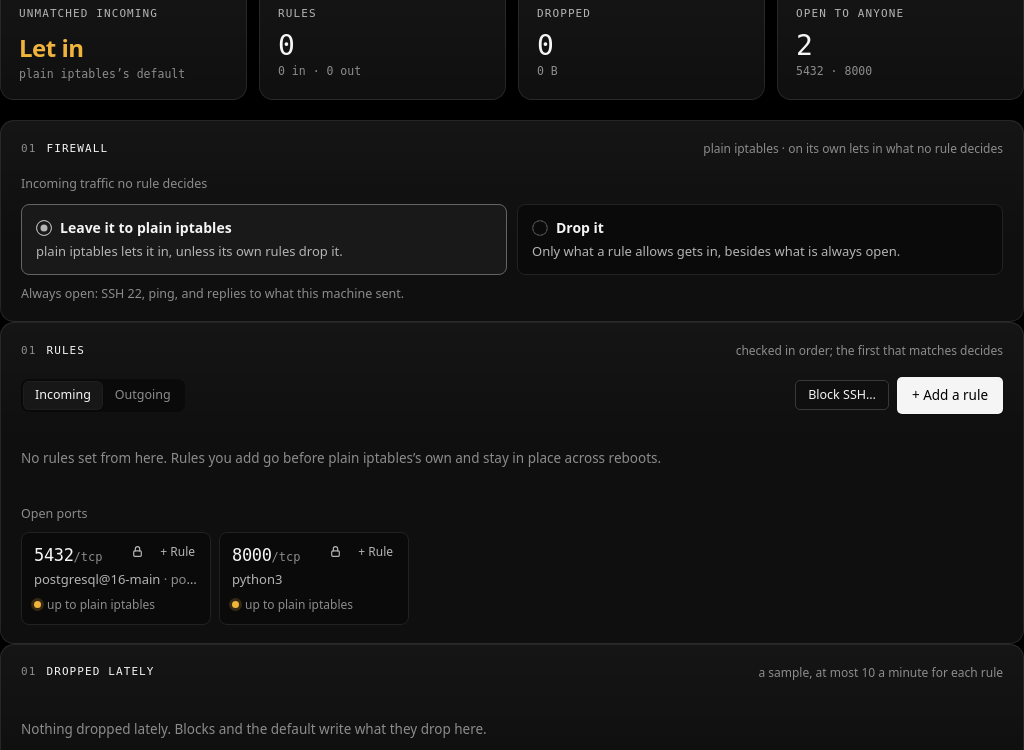
Scenario: Port locks › locks an open port to the service on it, and lists it
Check: the text "postgresql@16-main" is shown, box 34,570 -> 160,588
Click the button named "Lock 5432/tcp to postgresql@16-main" at (138,552), box 124,541 -> 151,563
(page scrolled)
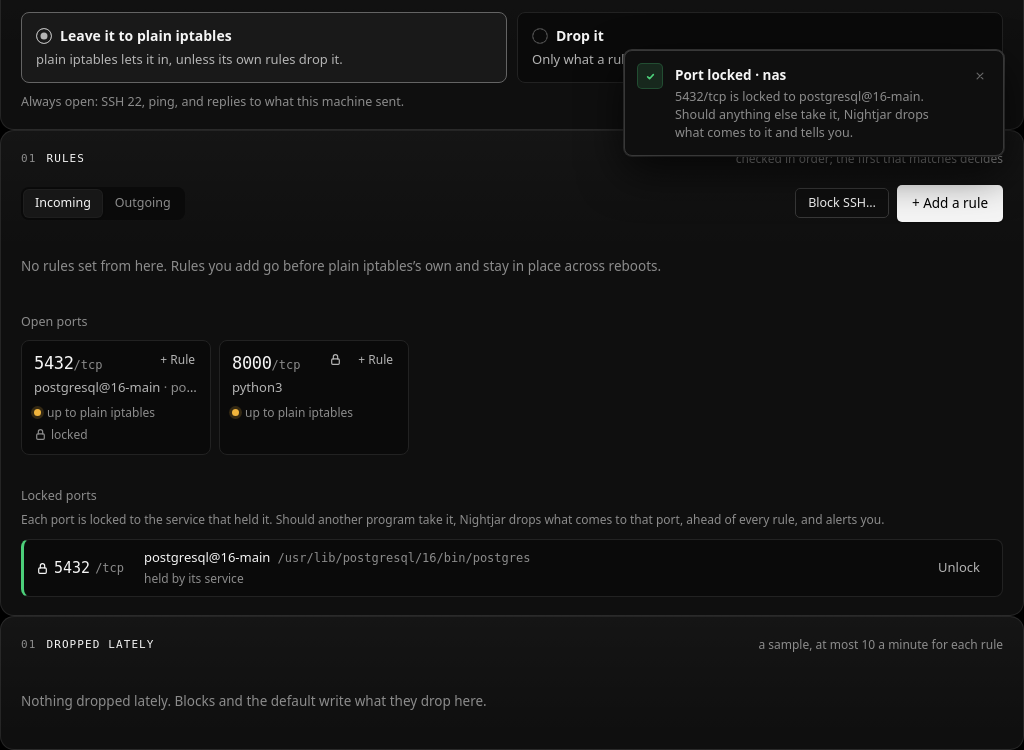
Check: the text "held by its service" is shown, box 144,570 -> 244,587
Click the button "Unlock" at (959,568), box 928,552 -> 990,584
(page scrolled)
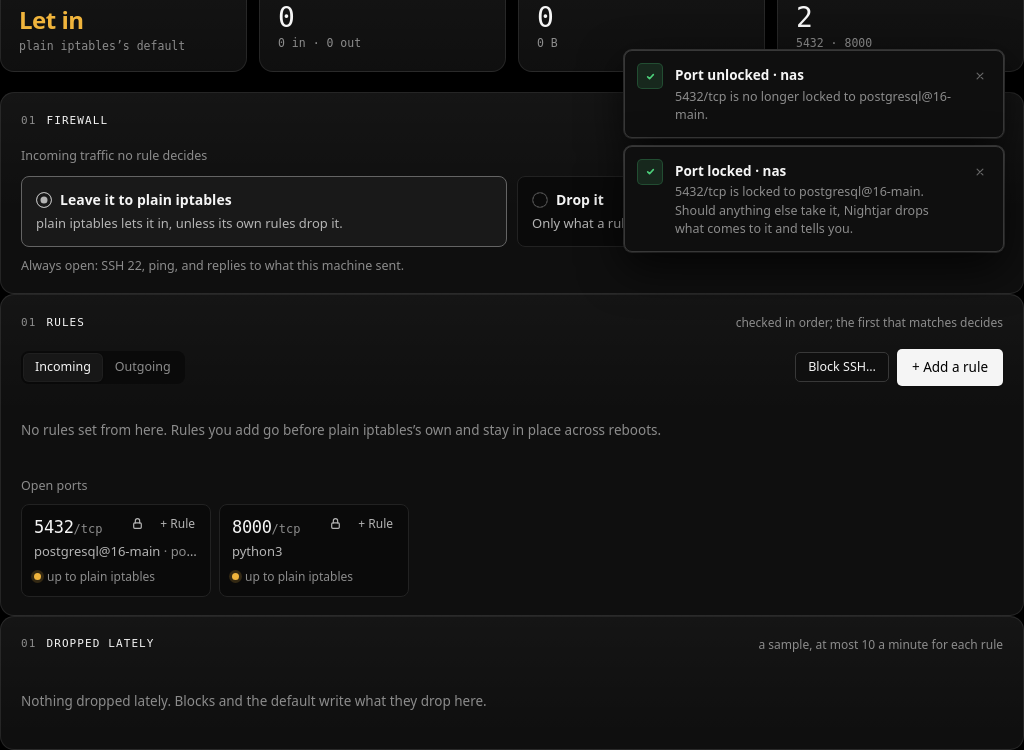
Check: the text "Locked ports" is gone
